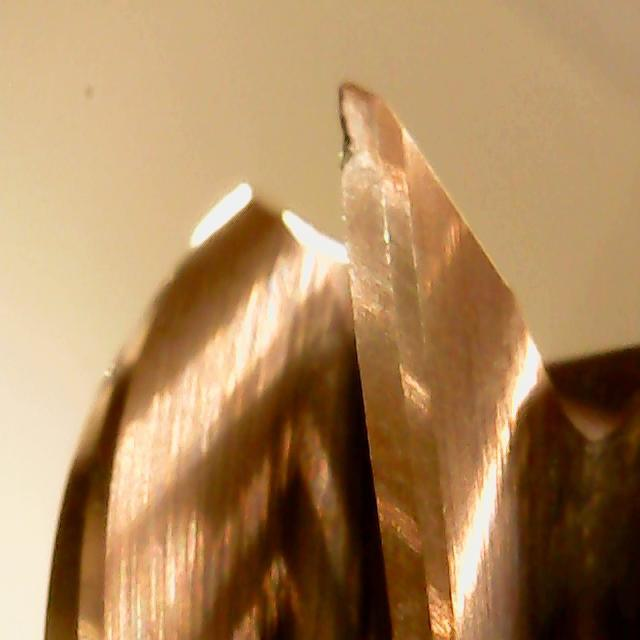Tool-wear-class-1: (329, 73, 419, 280)
